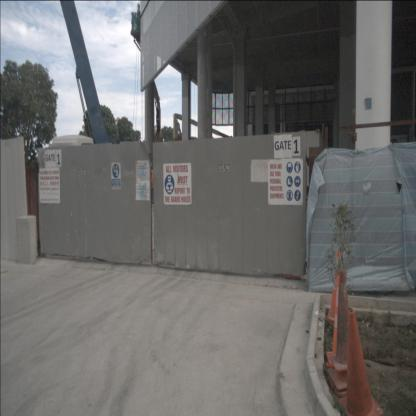cone: (338, 306, 386, 416), (328, 268, 360, 398), (325, 275, 351, 370), (326, 249, 348, 326)
